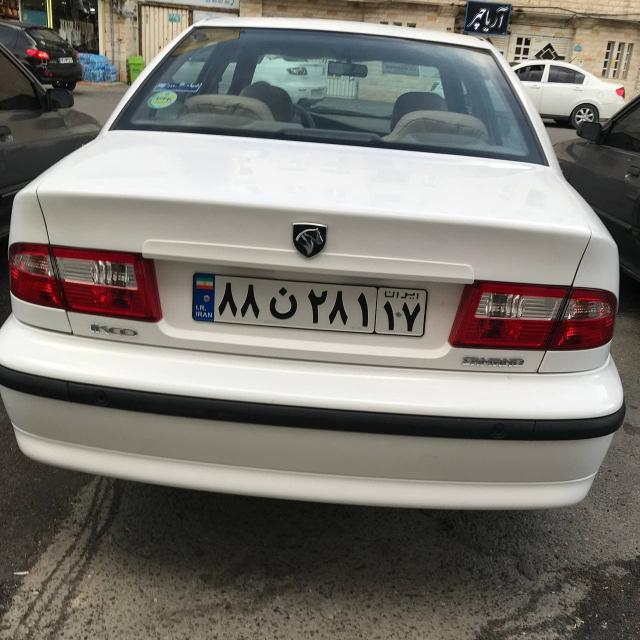Plates: (190, 271, 427, 337)
